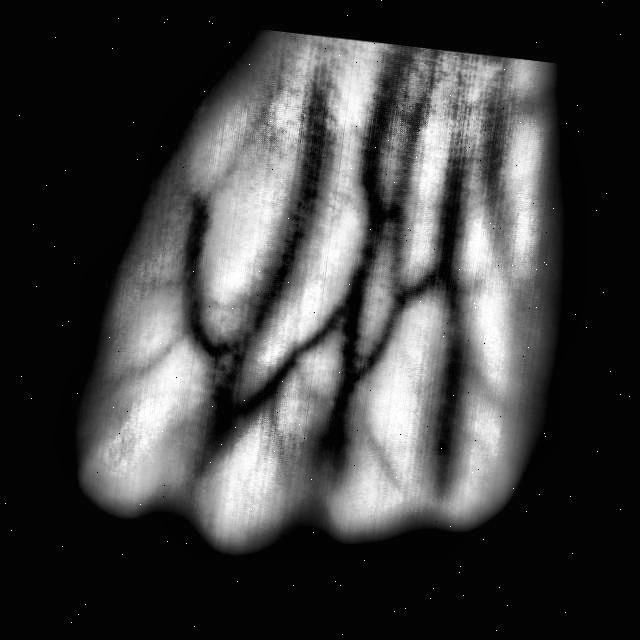Vein: (238, 120, 346, 336)
